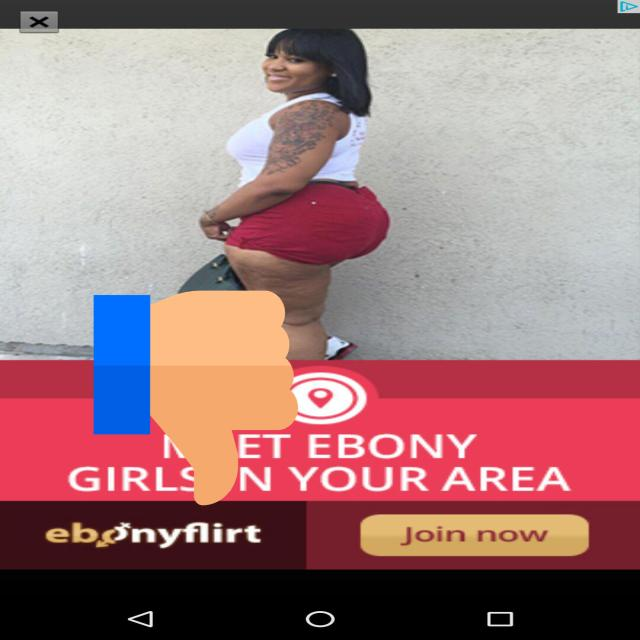obstruction: (94, 285, 298, 511)
